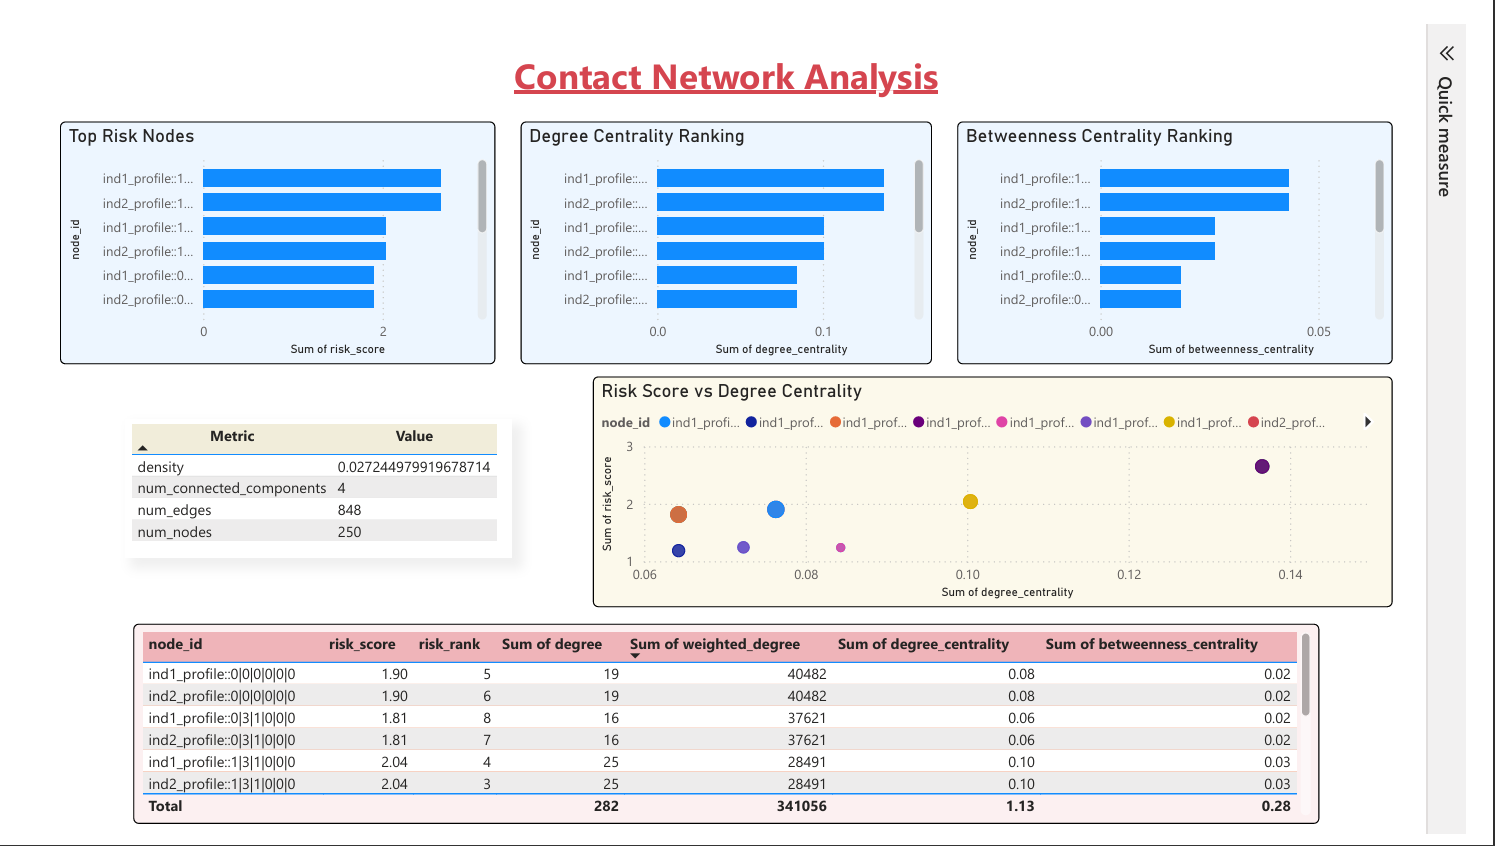

What the dashboard file says about the page in this screenshot:
{"tool":"powerbi","page":{"name":"Contact Network Analysis","canvas":[1280,720],"ordinal":2},"visuals":[{"type":"tableEx","fields":{"Values":["contact_network_summary.metric","contact_network_summary.value"]},"box":[91,350,353,127],"z":0},{"type":"clusteredBarChart","title":"Top Risk Nodes","fields":{"Category":["high_risk_nodes.node_id"],"Y":["Sum(high_risk_nodes.risk_score)"]},"box":[31,78,398,222],"z":1},{"type":"clusteredBarChart","title":"Degree Centrality Ranking","fields":{"Category":["high_risk_nodes.node_id"],"Y":["Sum(high_risk_nodes.degree_centrality)"]},"box":[452,78,376,222],"z":2},{"type":"clusteredBarChart","title":"Betweenness Centrality Ranking","fields":{"Category":["high_risk_nodes.node_id"],"Y":["Sum(high_risk_nodes.betweenness_centrality)"]},"box":[851,78,398,222],"z":3},{"type":"tableEx","fields":{"Values":["high_risk_nodes.node_id","high_risk_nodes.risk_score","high_risk_nodes.risk_rank","Sum(high_risk_nodes.degree)","Sum(high_risk_nodes.weighted_degree)","Sum(high_risk_nodes.degree_centrality)","Sum(high_risk_nodes.betweenness_centrality)"]},"box":[98,537,1084,183],"z":4},{"type":"scatterChart","title":"Risk Score vs Degree Centrality","fields":{"X":["Sum(high_risk_nodes.degree_centrality)"],"Y":["Sum(high_risk_nodes.risk_score)"],"Series":["high_risk_nodes.node_id"],"Size":["Sum(high_risk_nodes.weighted_degree)"]},"box":[518,311,731,211],"z":5},{"type":"textbox","box":[415,8,450,56],"z":6}]}

Visuals, with their boxes on the page's 1280x720 design canvas (x1, y1, x2, y2). These are canvas units, not pixel positions in the 1495x846 screenshot, which may show the page scaled, cropped or inside an application window:
tableEx - contact_network_summary.metric x contact_network_summary.value: locate(91, 350, 444, 477)
"Top Risk Nodes" clusteredBarChart: locate(31, 78, 429, 300)
"Degree Centrality Ranking" clusteredBarChart: locate(452, 78, 828, 300)
"Betweenness Centrality Ranking" clusteredBarChart: locate(851, 78, 1249, 300)
tableEx - high_risk_nodes.node_id x high_risk_nodes.risk_score: locate(98, 537, 1182, 720)
"Risk Score vs Degree Centrality" scatterChart: locate(518, 311, 1249, 522)
textbox: locate(415, 8, 865, 64)
